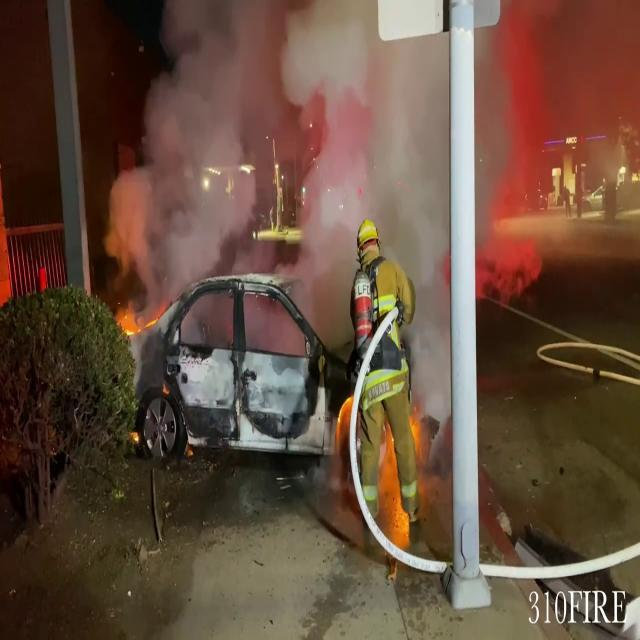Smoke: (112, 0, 450, 301), (481, 0, 640, 296)
